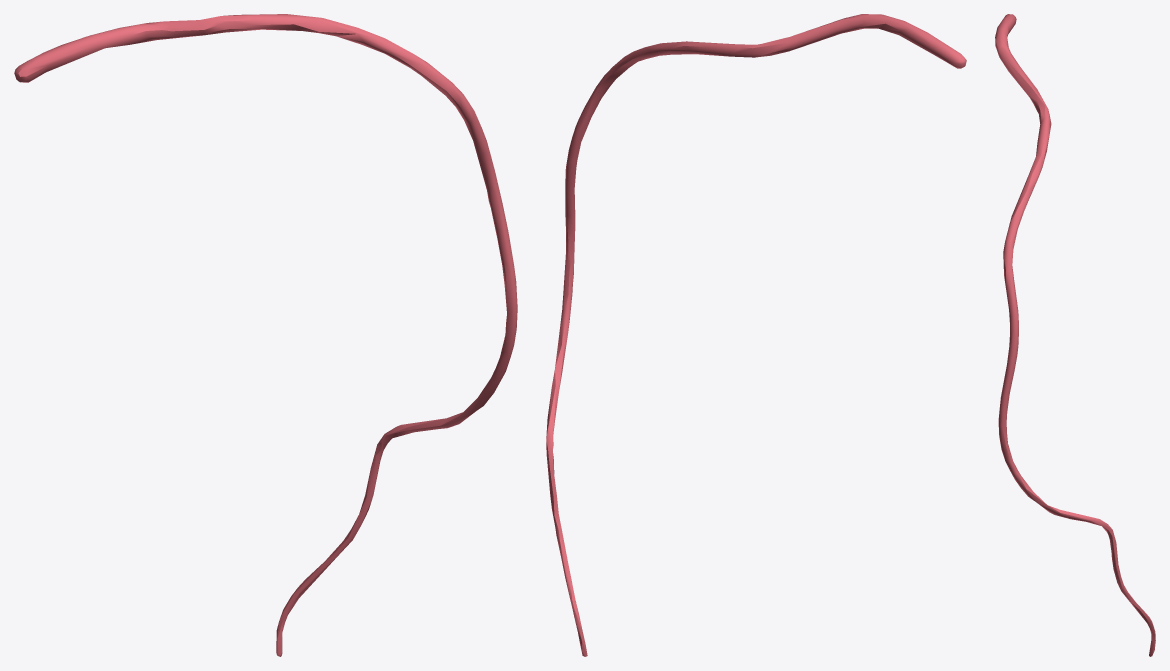
The model's file is fma14747_fj3515.glb.
3 views of the same model, side by side, from view 1: azimuth 30°, elevation 25°; view 2: azimuth 150°, elevation 25°; view 3: azimuth 270°, elevation 25° (orthographic). The views are drawn at different scales.
Visible parts, largest first — view 1: FMA14747_FJ3515; view 2: FMA14747_FJ3515; view 3: FMA14747_FJ3515.
Part boxes in pixels (x1,y1,x2,y2): FMA14747_FJ3515: (14, 14, 517, 656); FMA14747_FJ3515: (546, 14, 966, 656); FMA14747_FJ3515: (995, 14, 1155, 656).
Bounding box in the file's own units: 0.0846 × 0.1259 × 0.0343.
